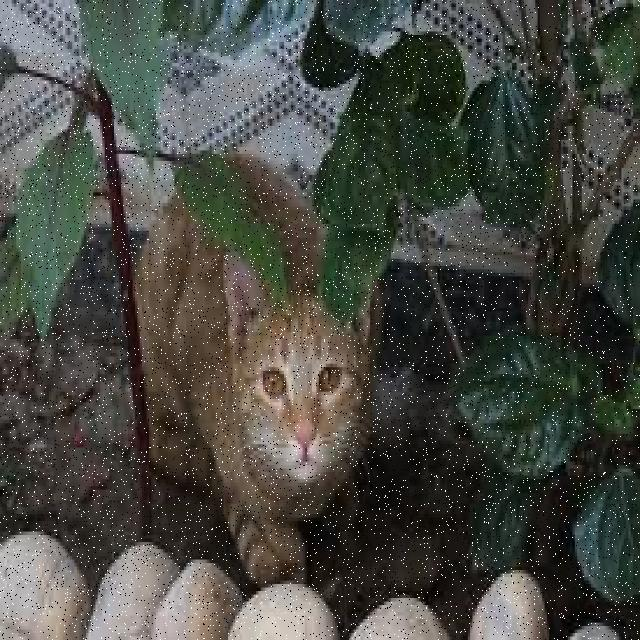cat: (136, 158, 371, 585)
